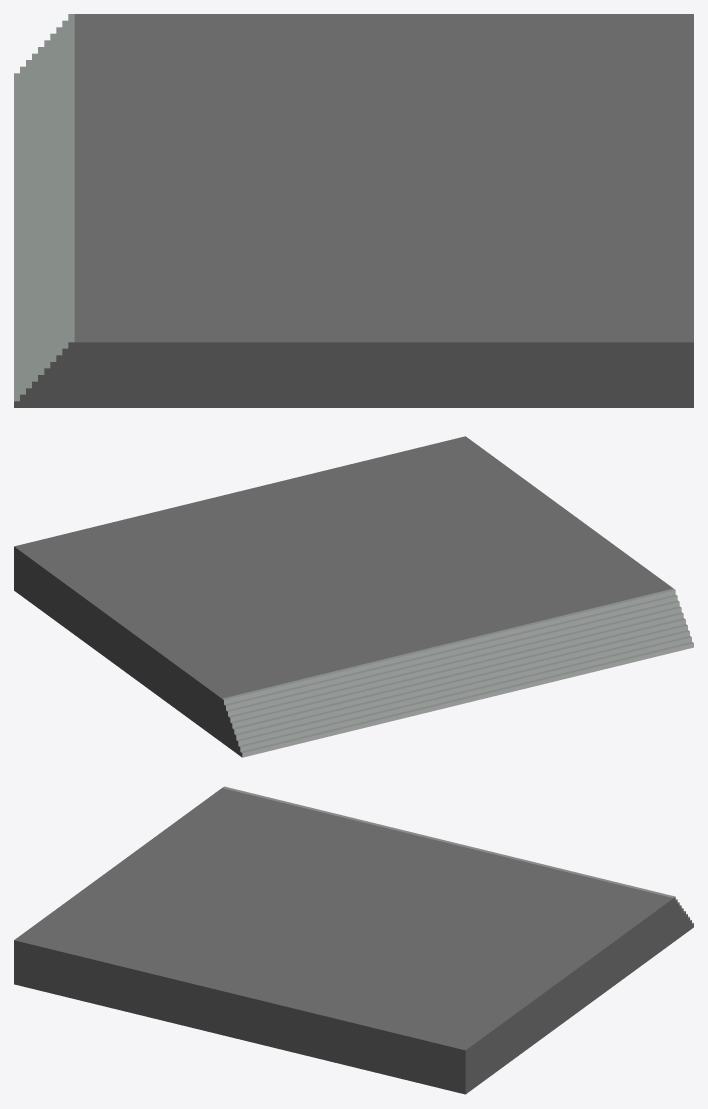
3 views of the same model, one above another, from view 1: azimuth 30°, elevation 25°; view 2: azimuth 150°, elevation 25°; view 3: azimuth 270°, elevation 25° (orthographic). The views are drawn at different scales.
Parts seen in each view (by area): view 1: block_02; view 2: block_02; view 3: block_02.
Part boxes in pixels (left/top/right/bottom): block_02: left=14, top=14, right=693, bottom=407; block_02: left=14, top=436, right=693, bottom=757; block_02: left=14, top=786, right=693, bottom=1094.
Size of the model in its own units: 3.98 by 0.2954 by 4.12.
1 material, 1 textured.
